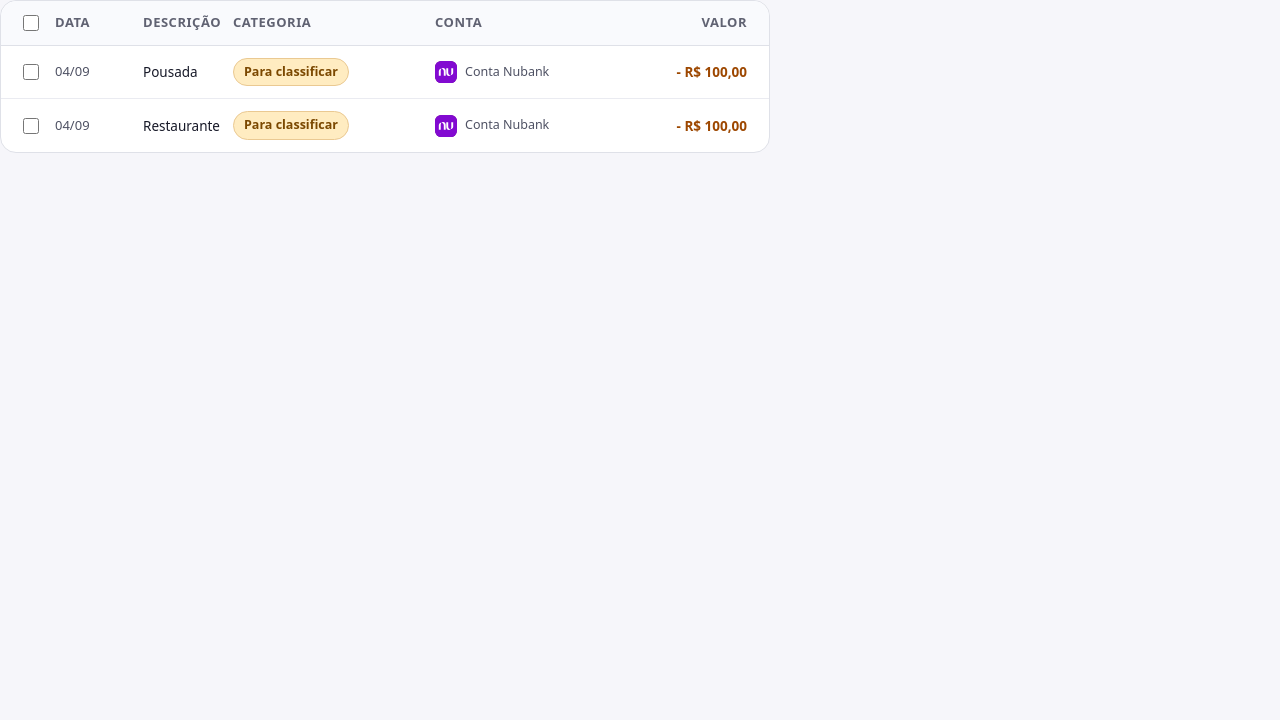
Test case: marcar dois e aplicar uma tag manda os dois para a API e limpa a seleção
What coordinates should you click on to do the following:
click the checkbox named "Selecionar Pousada"
I would click on:
 (31, 72)
Its box is [23, 64, 39, 80].
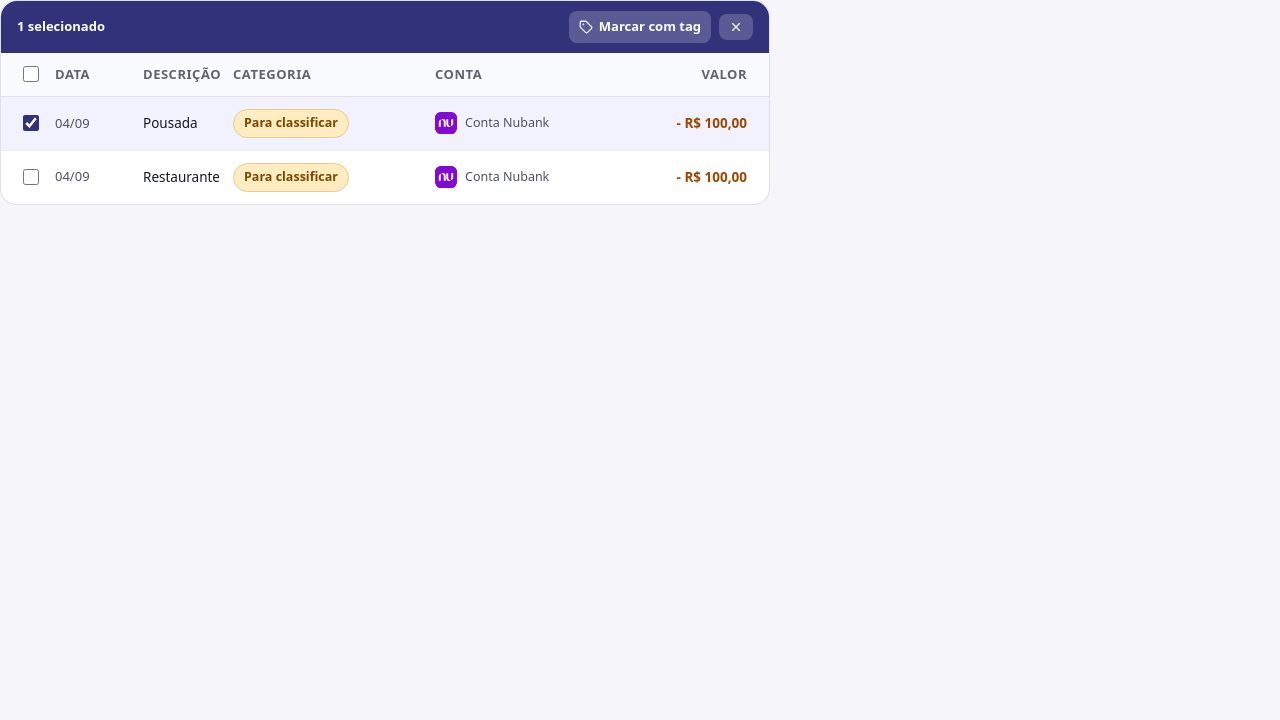
What coordinates should you click on to do the following:
click the checkbox named "Selecionar Restaurante"
I would click on:
 (31, 177)
Its box is [23, 169, 39, 185].
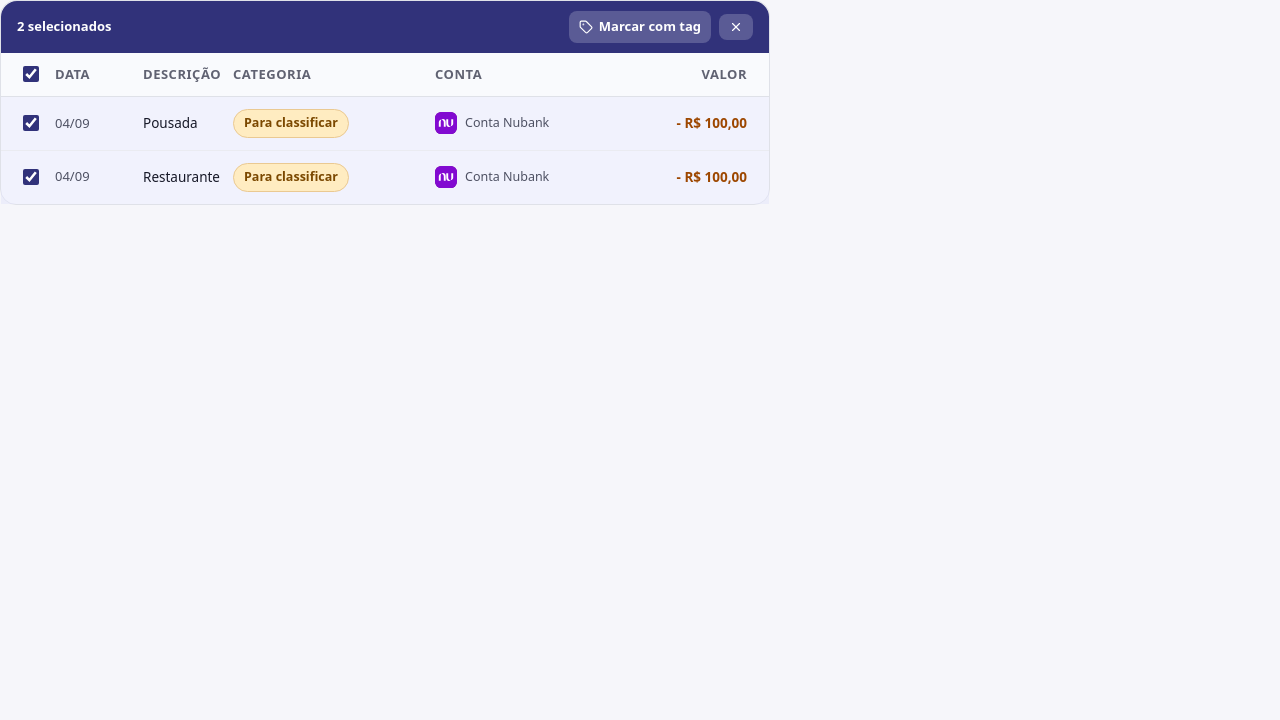
Expected: the text "2 selecionados" is shown, [17, 17, 111, 35]
What coordinates should you click on to do the following:
click the button "Marcar com tag"
I would click on:
 (640, 27)
Its box is [569, 11, 711, 42].
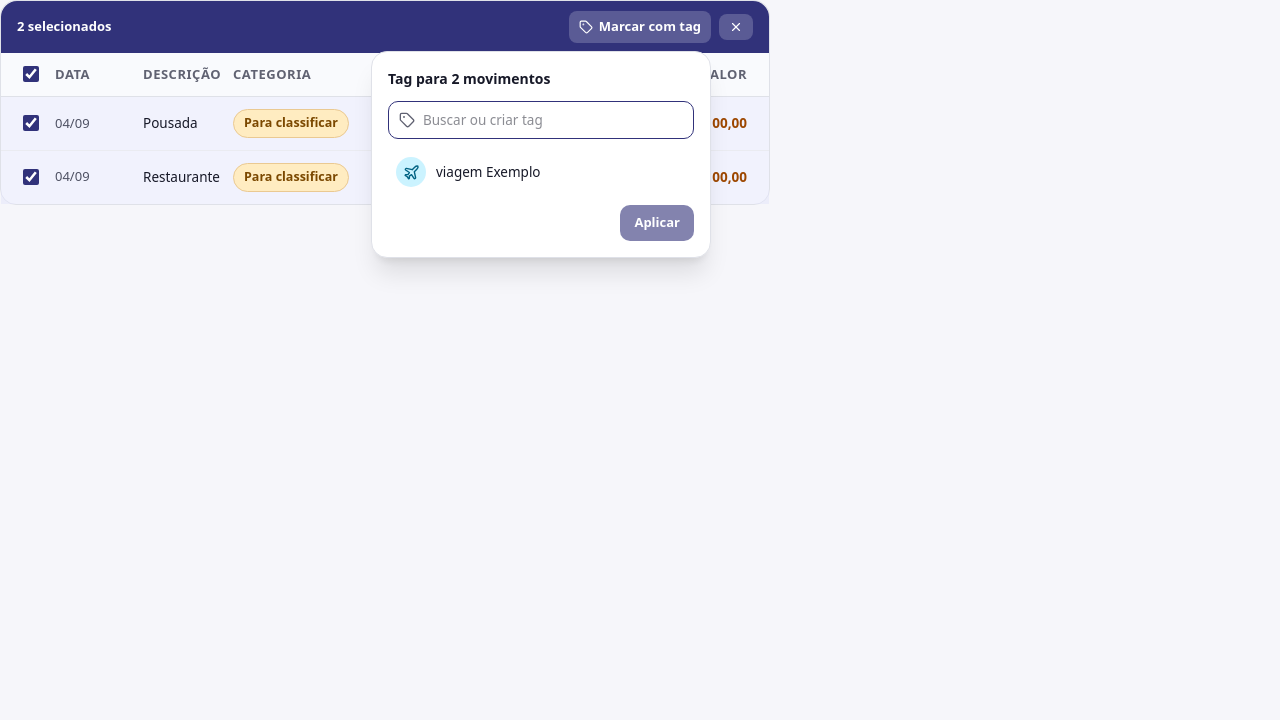
# A tag existente aparece com ícone, como na escolha de categoria.
What coordinates should you click on to do the following:
click the radio button labelled "viagem Exemplo"
I would click on:
 (468, 172)
Its box is [396, 157, 540, 187].
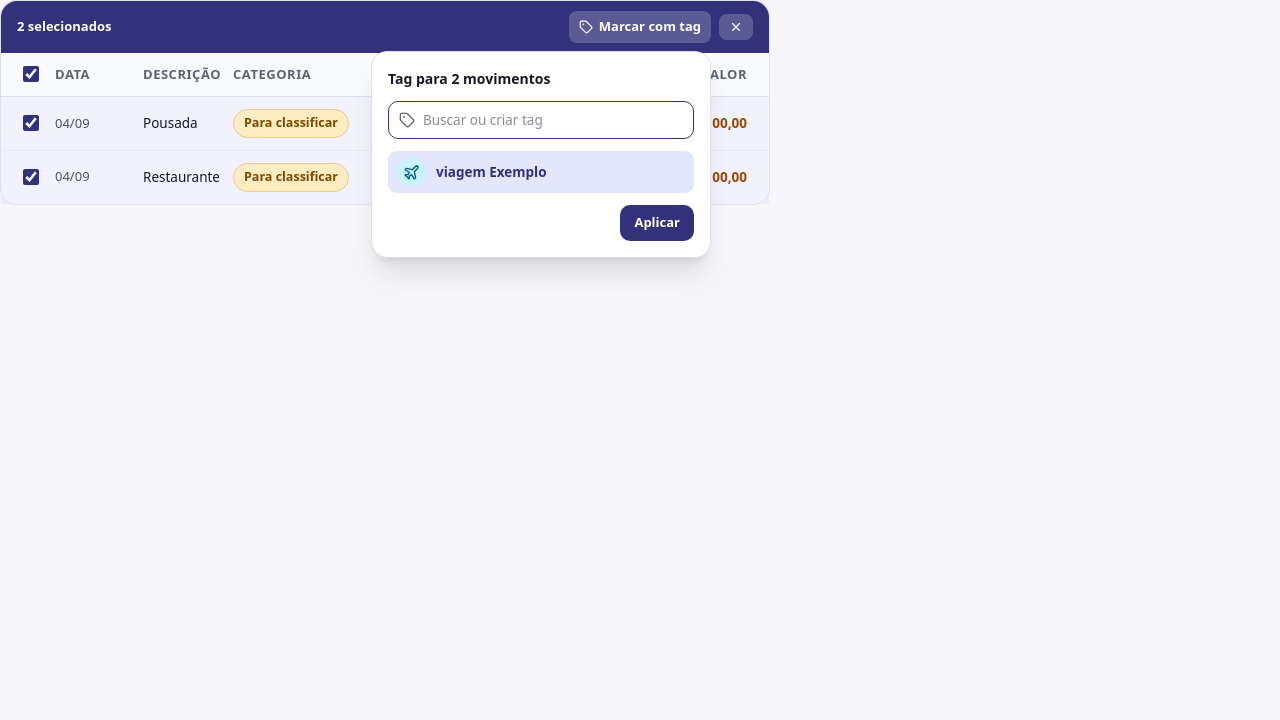
What coordinates should you click on to do the following:
click the button "Aplicar"
I would click on:
 (657, 223)
Its box is [620, 205, 694, 241].
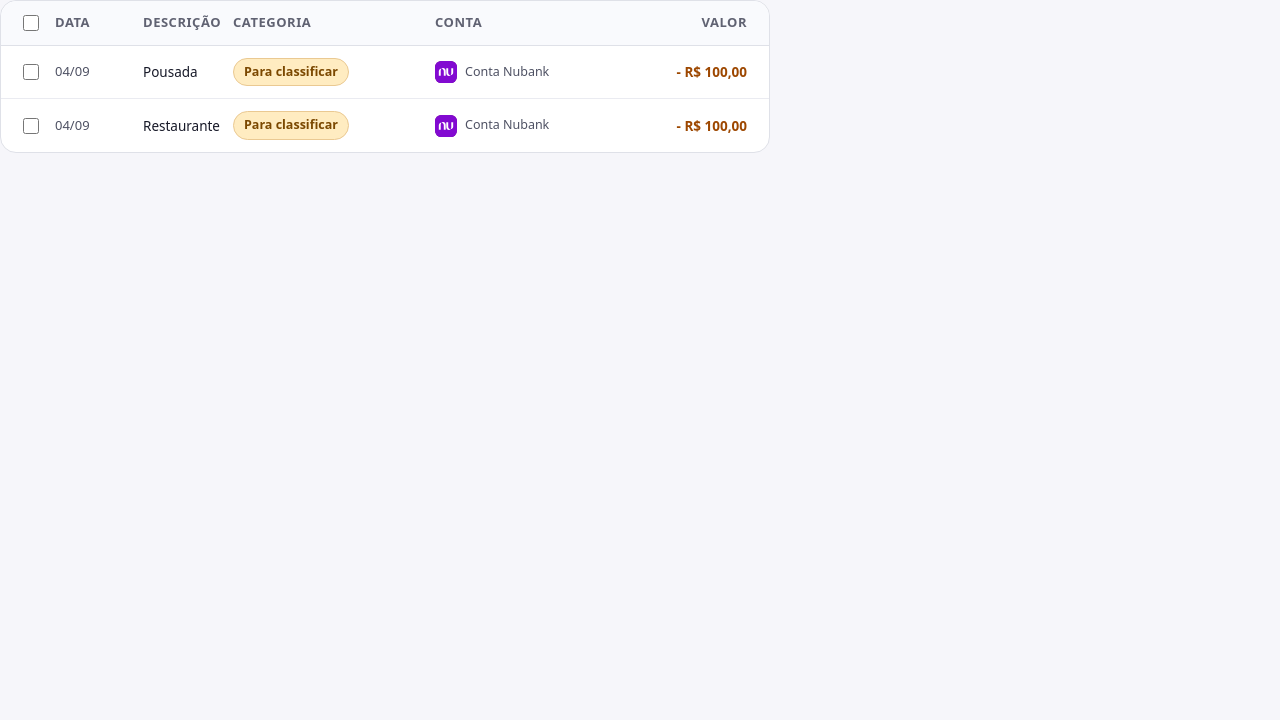
Expected: the text "2 selecionados" is gone
